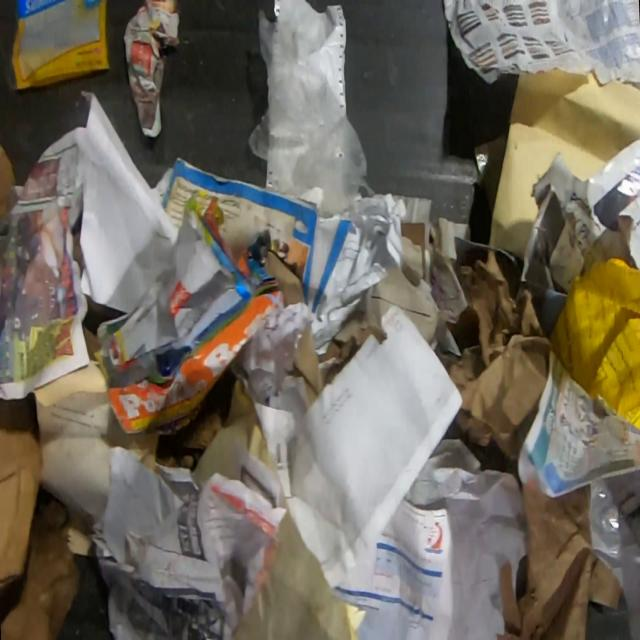cardboard: (495, 475, 621, 640), (0, 481, 86, 640), (0, 393, 42, 589), (290, 321, 324, 412), (263, 249, 306, 307), (0, 140, 18, 228)
soft_plastic: (246, 9, 374, 217), (589, 477, 640, 640), (474, 134, 507, 217)
